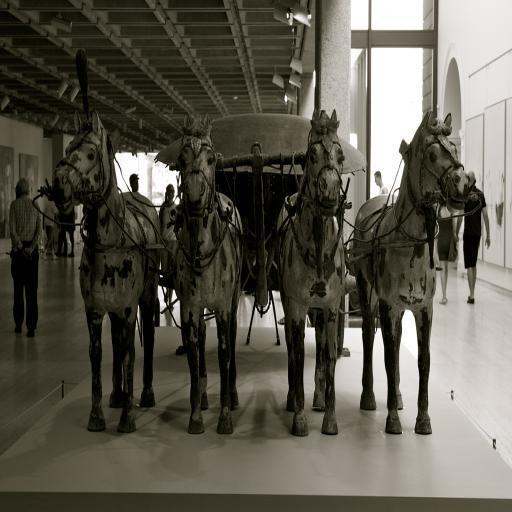horse: (354, 110, 470, 436), (51, 108, 162, 436), (274, 108, 348, 436), (175, 110, 243, 434)
